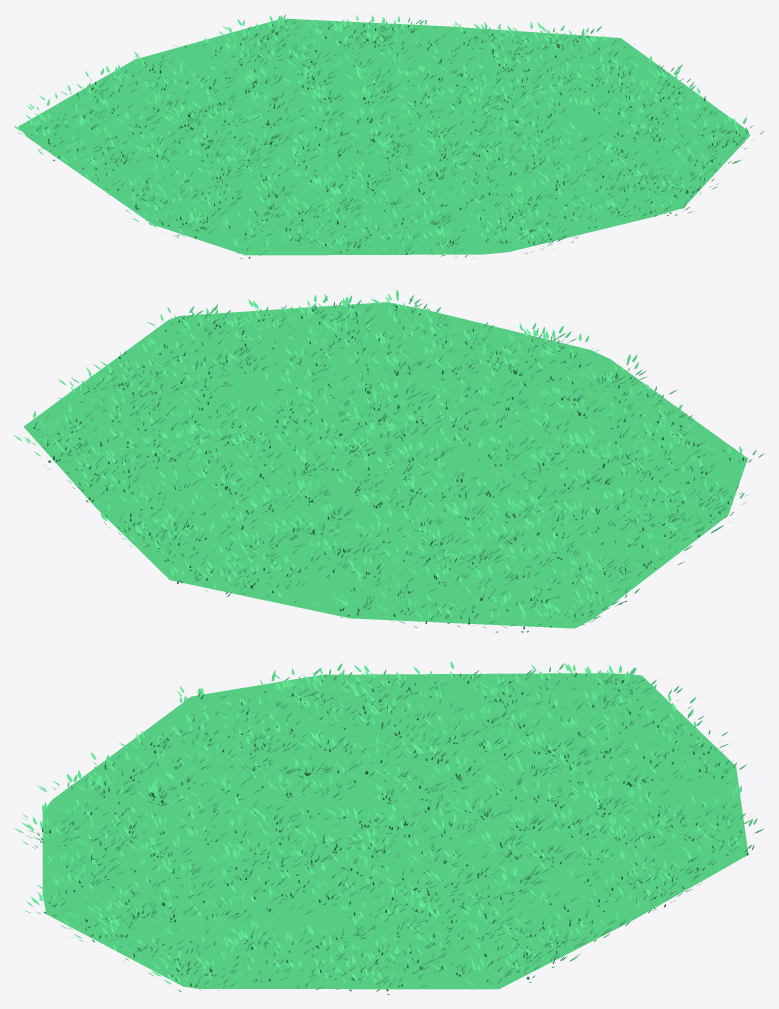
The model's file is grama1.fbx.
3 views of the same model, one above another, from view 1: azimuth 30°, elevation 25°; view 2: azimuth 150°, elevation 25°; view 3: azimuth 270°, elevation 25° (orthographic). The views are drawn at different scales.
Parts seen in each view (by area): view 1: Cubo.001; view 2: Cubo.001; view 3: Cubo.001.
Boxes of the visible parts, box(x1,y1,x2,y2) form: Cubo.001: box(18, 18, 749, 255); Cubo.001: box(23, 302, 747, 628); Cubo.001: box(42, 673, 748, 989).
Bounding box in the file's own units: 460 × 36.77 × 439.
